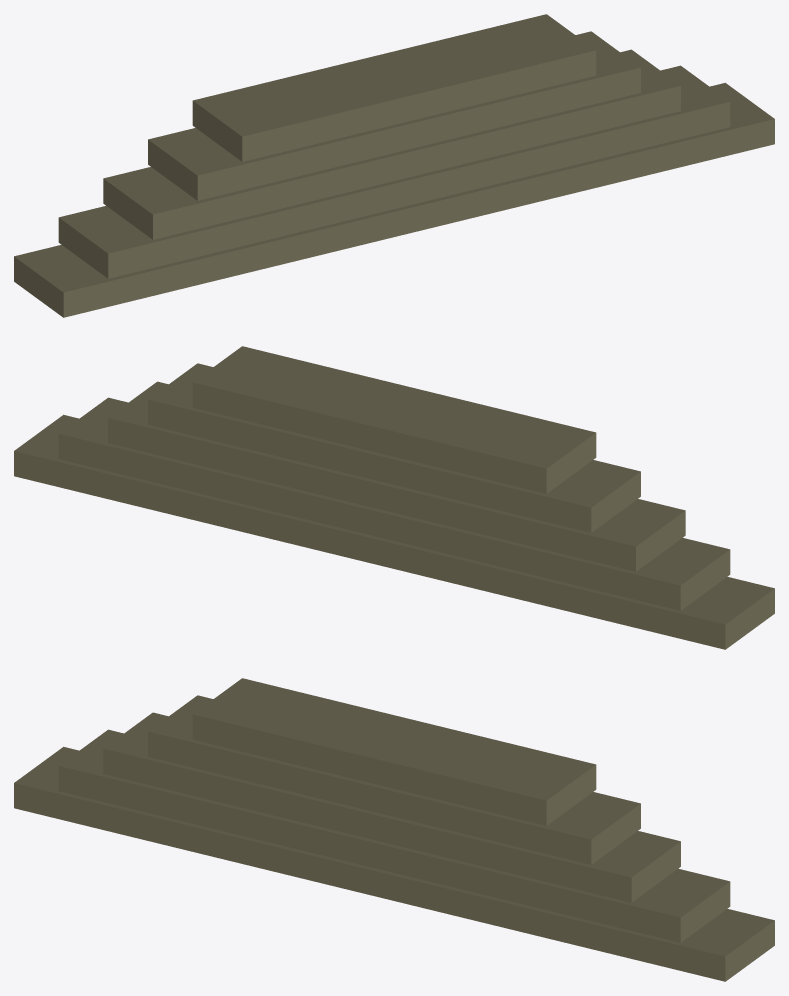
Rendered from SM_MuroSacos_v1_Talud_e0_Sano_LOD1.fbx.
3 renders of one model, top to bottom at view 1: azimuth 30°, elevation 25°; view 2: azimuth 150°, elevation 25°; view 3: azimuth 330°, elevation 25°, orthographic.
Parts seen in each view (by area): view 1: SM_bloques.muro_sacos_estados_v4_LOD1; view 2: SM_bloques.muro_sacos_estados_v4_LOD1; view 3: SM_bloques.muro_sacos_estados_v4_LOD1.
Part boxes in pixels (x1,y1,x2,y2): SM_bloques.muro_sacos_estados_v4_LOD1: (14,14,774,317); SM_bloques.muro_sacos_estados_v4_LOD1: (14,346,774,649); SM_bloques.muro_sacos_estados_v4_LOD1: (14,678,774,981).
Bounding box in the file's own units: 7.96 × 1.47 × 0.96.
